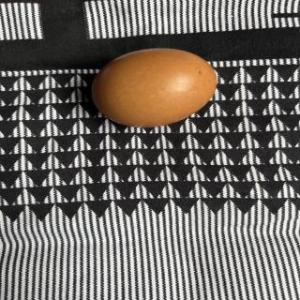egg: (90, 47, 218, 129)
